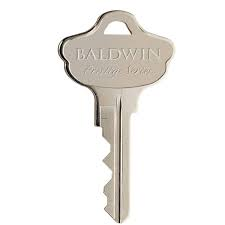kicharina: (55, 8, 175, 222)
